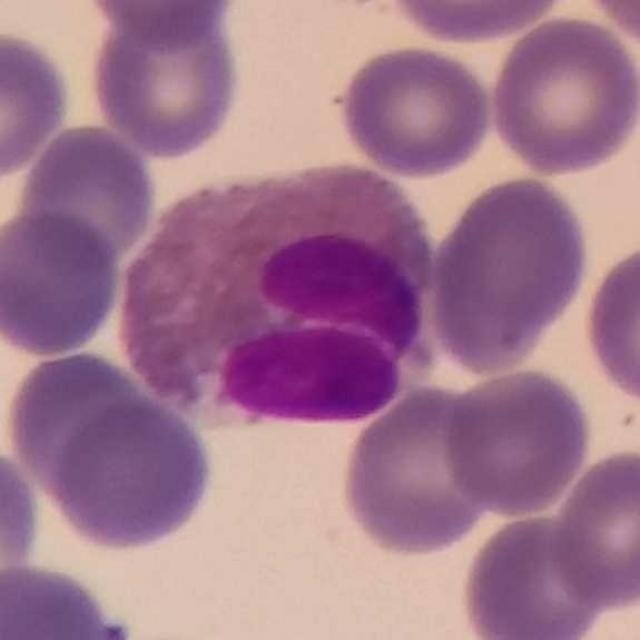Eosinophil: (116, 159, 448, 427)
RBC: (424, 172, 594, 376), (336, 381, 502, 560), (46, 392, 218, 554), (485, 11, 639, 178), (86, 2, 245, 162), (2, 346, 156, 507), (441, 364, 594, 518), (334, 40, 496, 180), (12, 120, 159, 271), (456, 508, 610, 640), (0, 206, 125, 358), (546, 444, 640, 611), (0, 25, 76, 186), (0, 556, 137, 640), (579, 236, 640, 410), (384, 0, 579, 46), (0, 441, 45, 609), (80, 0, 242, 46), (576, 0, 640, 52)
